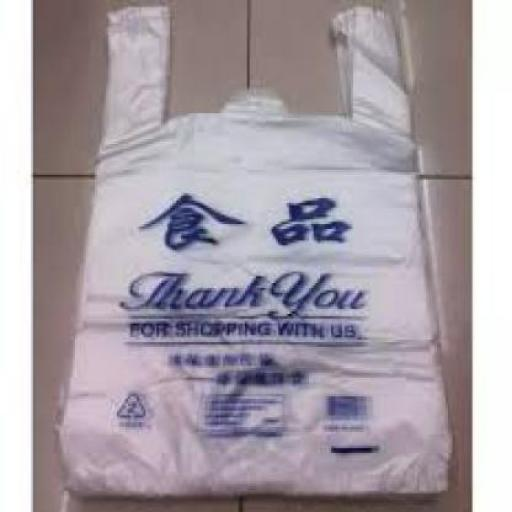plastic: (56, 2, 450, 495)
